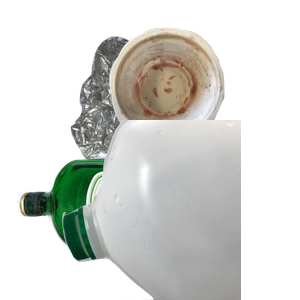glass: (14, 150, 247, 300)
metal: (68, 34, 300, 214)
plastic: (60, 120, 300, 300)
trash: (107, 25, 300, 162)
